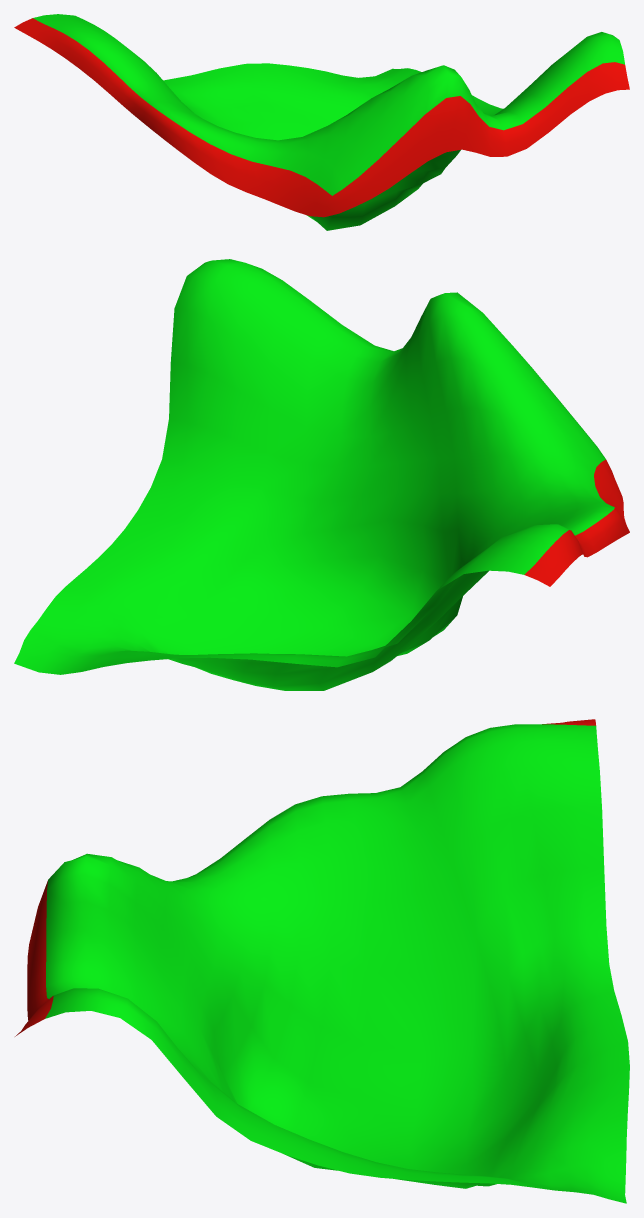
3 views of the same model, one above another, from view 1: azimuth 30°, elevation 25°; view 2: azimuth 150°, elevation 25°; view 3: azimuth 270°, elevation 25° (orthographic). The views are drawn at different scales.
Parts seen in each view (by area): view 1: T9; view 2: T9; view 3: T9.
Boxes of the visible parts, x1,y1,x2,y2 form: T9: [14, 14, 629, 230]; T9: [14, 259, 629, 690]; T9: [15, 719, 629, 1203].
Size of the model in its own units: 5970 by 2744 by 5047.
